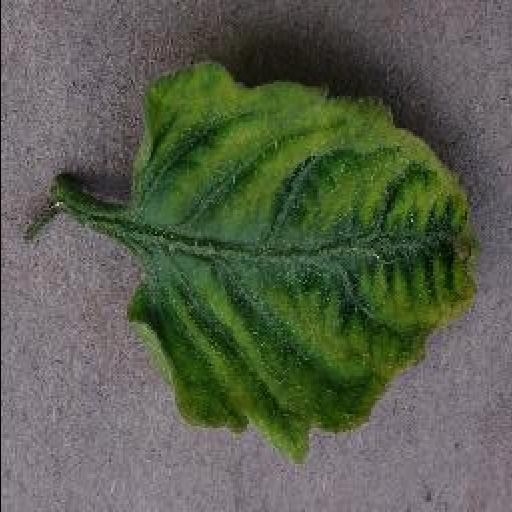disease_tomato: (122, 62, 478, 464)
